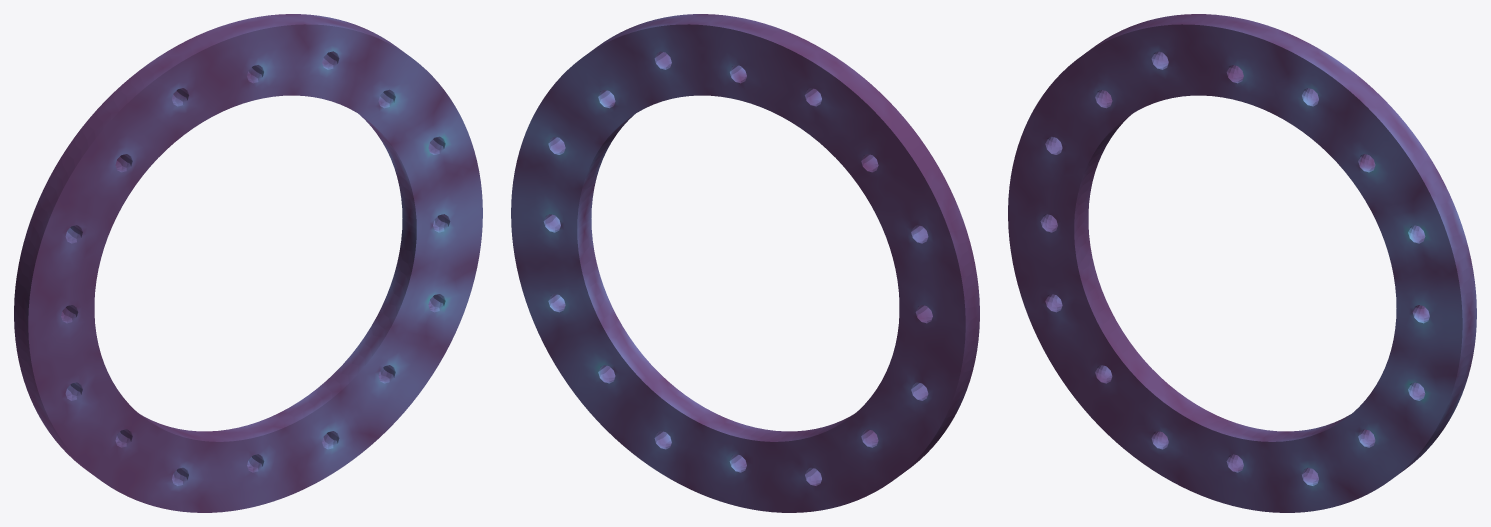
File: CAD_MP-EMX.glb
3 views of the same model, side by side, from view 1: azimuth 30°, elevation 25°; view 2: azimuth 150°, elevation 25°; view 3: azimuth 330°, elevation 25° (orthographic).
Visible parts, largest first — view 1: geometry_0; view 2: geometry_0; view 3: geometry_0.
Part boxes in pixels (bbox=[...]): geometry_0: bbox=[14, 14, 482, 512]; geometry_0: bbox=[511, 14, 979, 512]; geometry_0: bbox=[1008, 14, 1476, 512].
Size of the model in its own units: 0.22 by 0.22 by 0.012.
